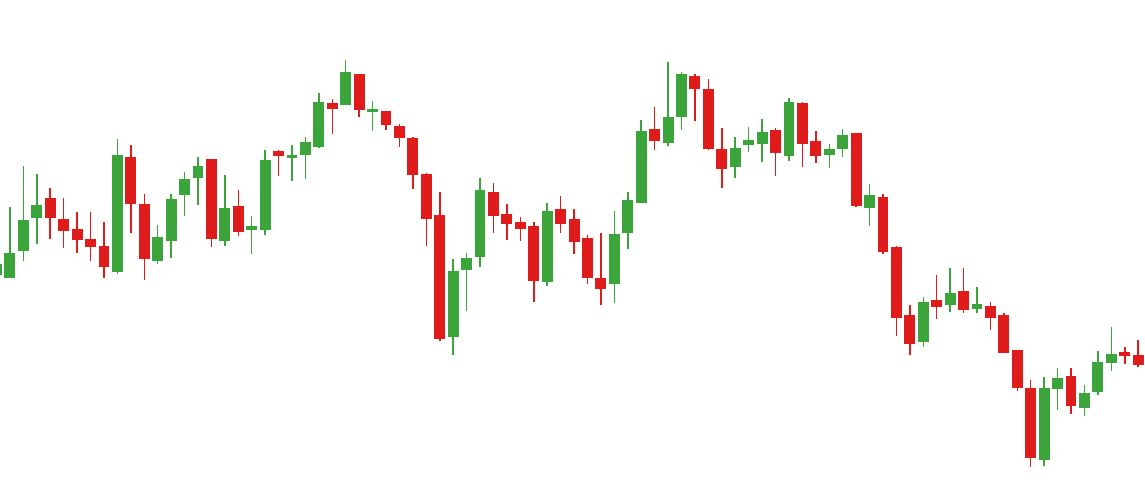buy: (137, 155, 462, 363), (526, 214, 622, 310)
